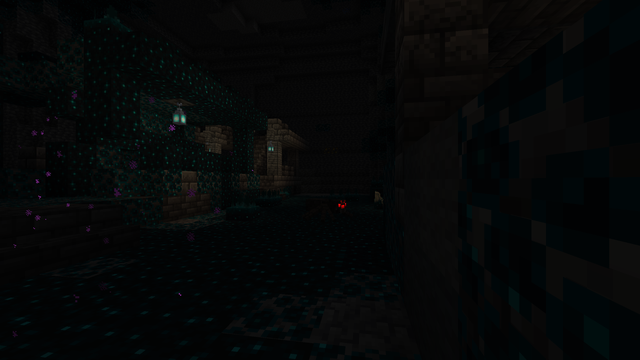araignees: (308, 196, 346, 222)
